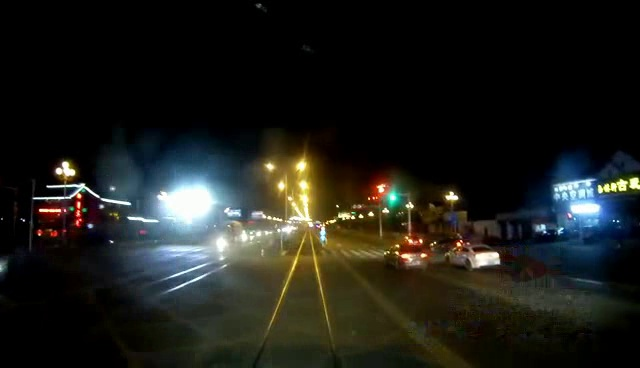car: (444, 242, 502, 271), (382, 239, 429, 268)
